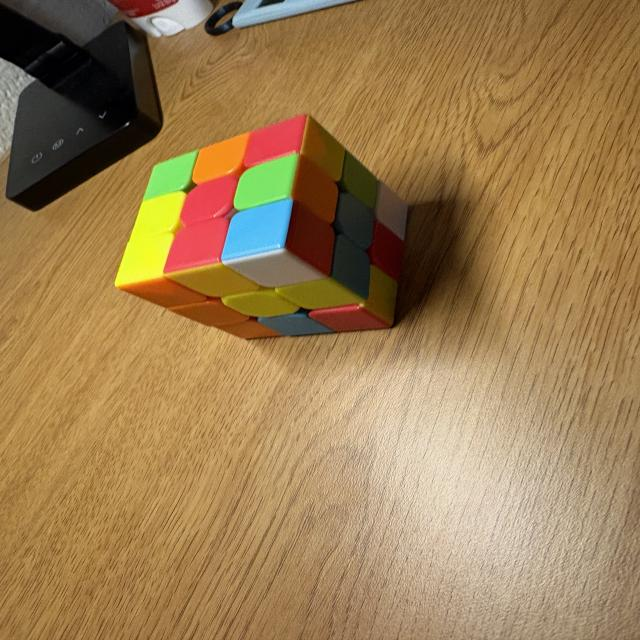Rubiks Cube: (113, 115, 408, 342)
